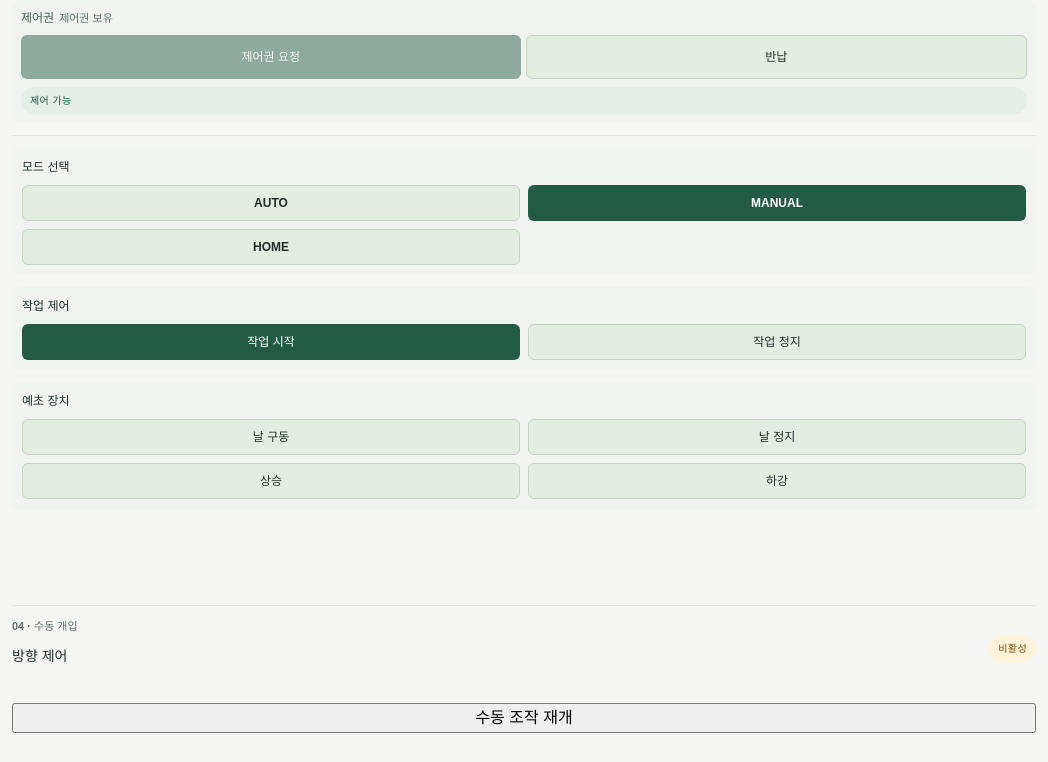
Test: ControlPanel compact dock › 반납 버튼을 누르면 진행 중으로 표시하고 서버 응답으로 제어권 상태를 갱신한다
Click the button "반납" at [776, 57], box left=526, top=35, right=1027, bottom=79
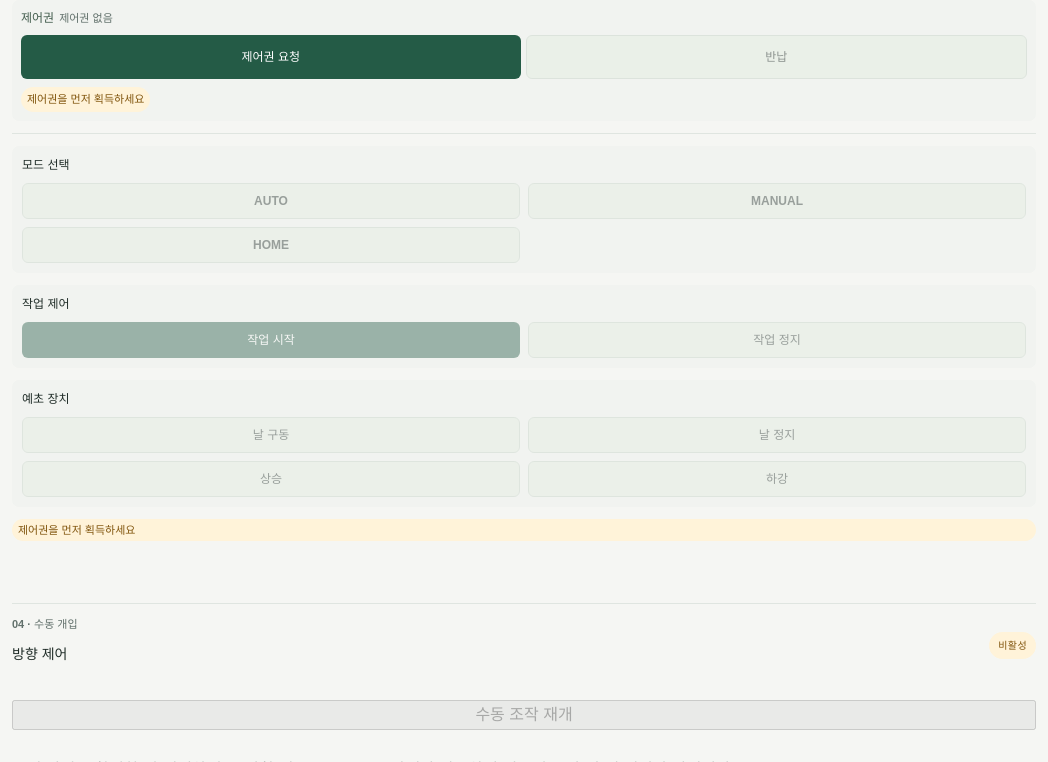
Expected: the button "반납" is disabled, left=526, top=35, right=1027, bottom=79
Expected: the text "제어권 없음" is shown, left=59, top=10, right=113, bottom=26
Expected: the button "제어권 요청" is enabled, left=21, top=35, right=520, bottom=79
